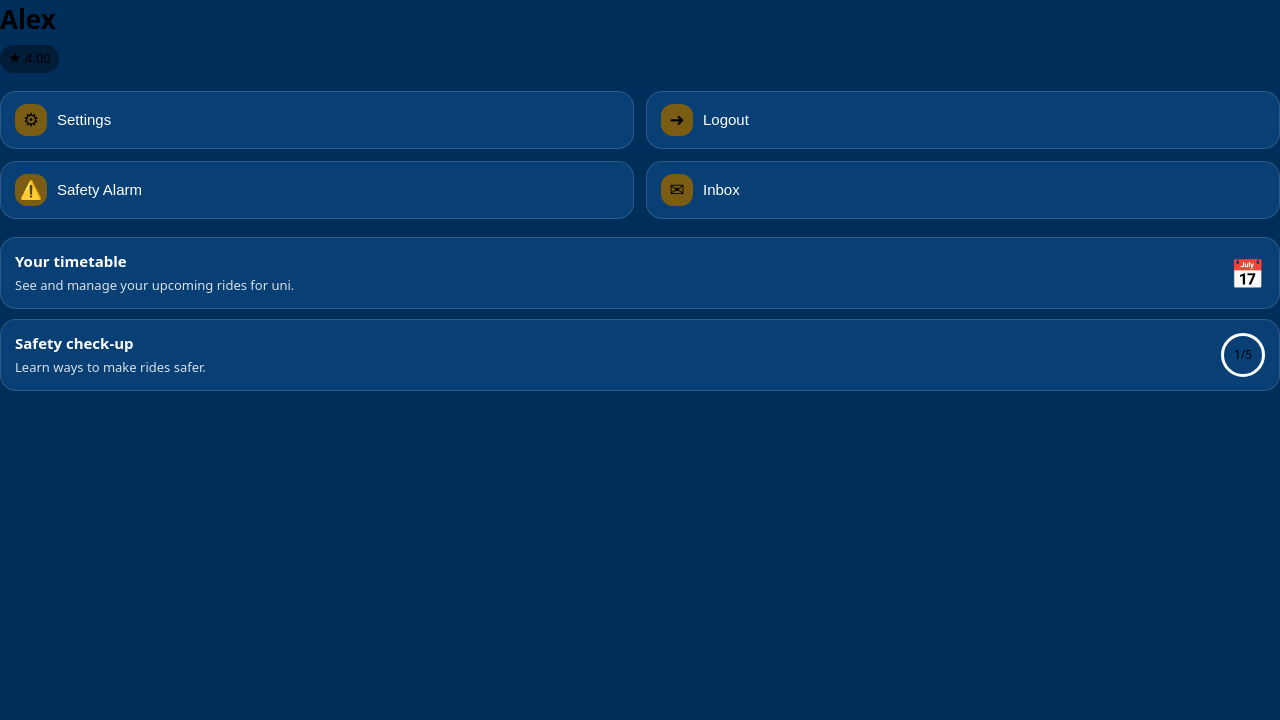
Scenario: AccountPage Component › Edge Cases & Accessibility › uses the first contact if no contact is marked as primary
The width and height of the screenshot is (1280, 720).
Click the text "Safety Alarm" at {"x": 100, "y": 190}, box [57, 181, 142, 198]
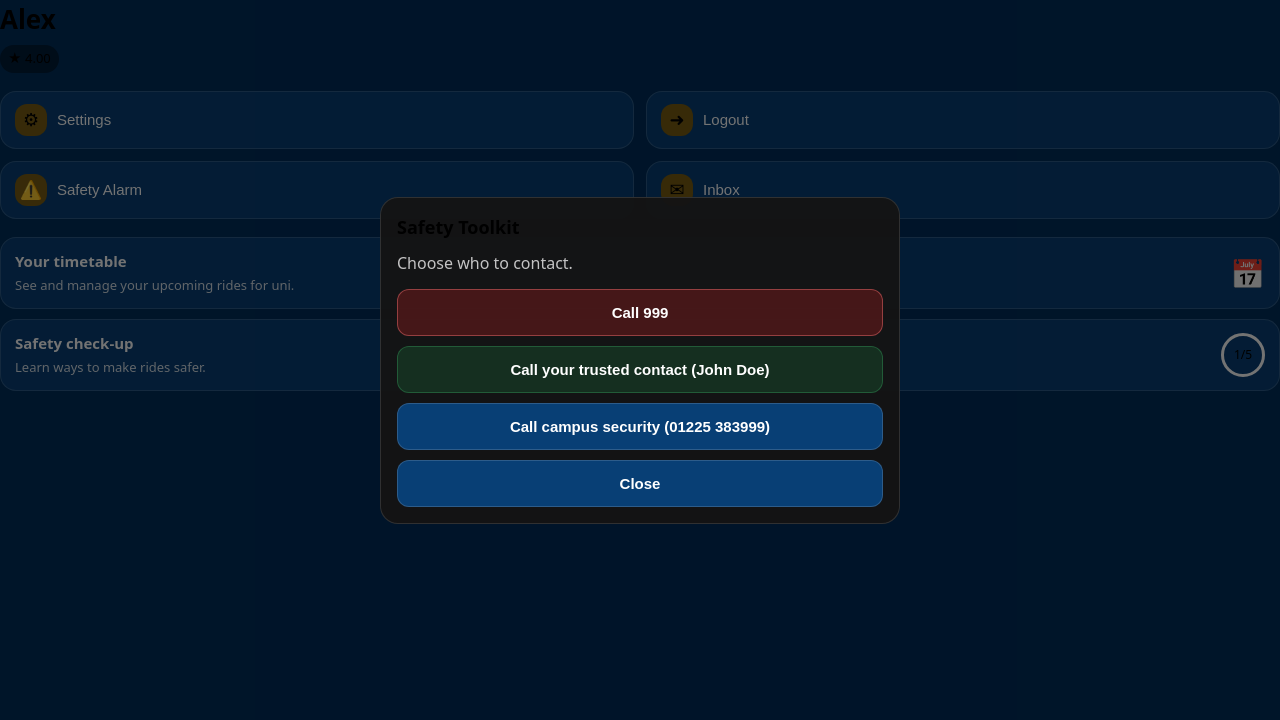
Expected: the button "Call your trusted contact (John Doe)" is shown, [397, 346, 883, 392]
